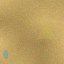person: (3, 50, 8, 59)
structure: (36, 21, 55, 38)
